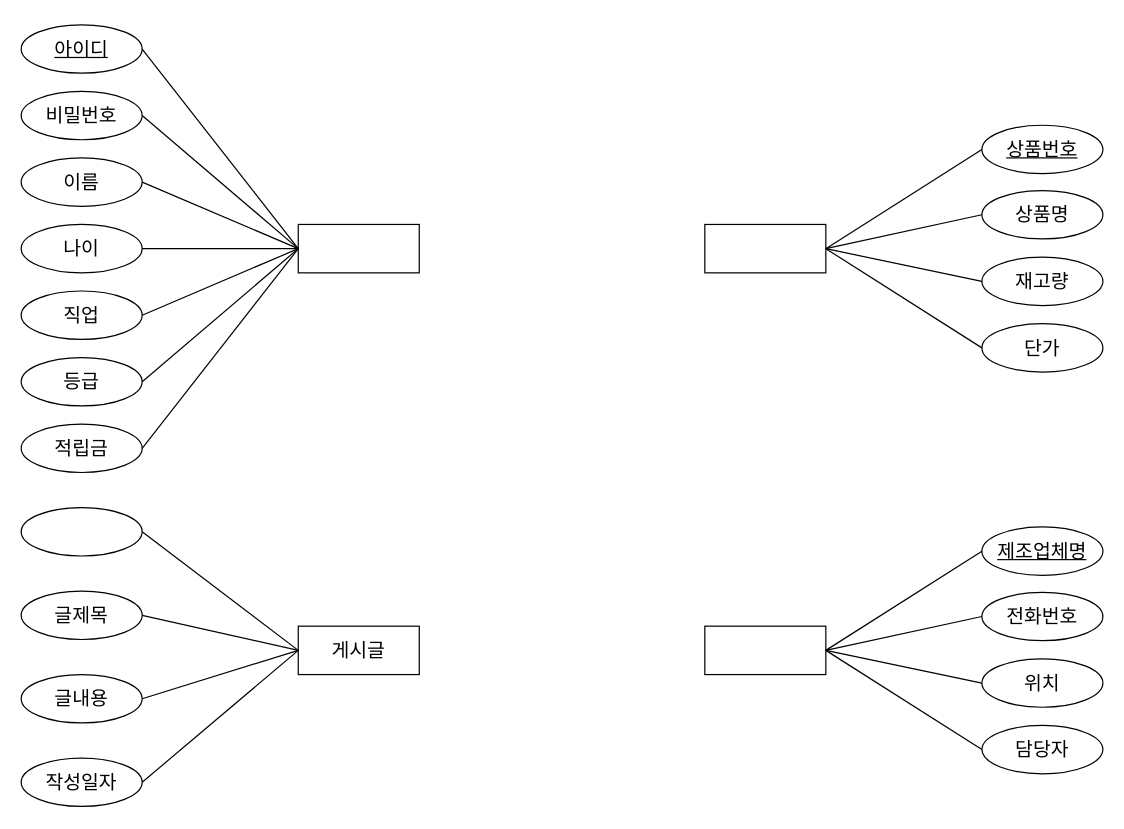
Some shapes in this 1124 by 829 pixel diagram are drawn without their labels. The centre of each missing label's shape, as x and y in pixels:
"글번호" belongs at (x=81, y=531).
"상품" belongs at (x=765, y=248).
"제조업체" belongs at (x=765, y=650).
"회원" belongs at (x=358, y=248).
